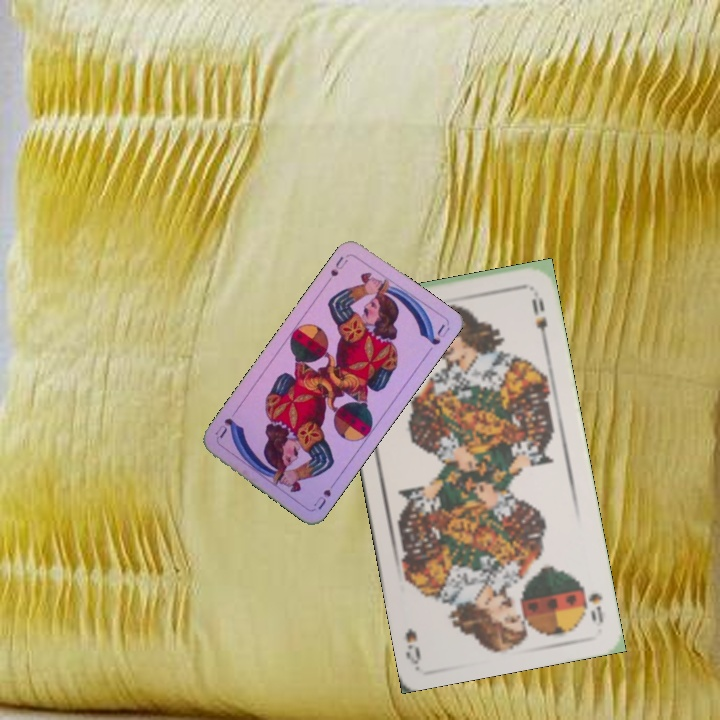SO: (584, 589, 606, 626)
SU: (310, 476, 340, 512), (322, 252, 352, 286)
